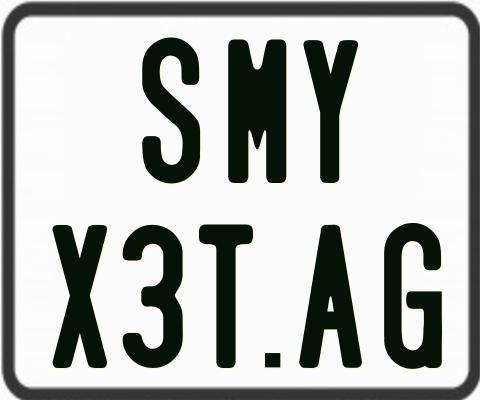3: (120, 223, 184, 366)
A: (298, 224, 363, 371)
G: (382, 221, 444, 369)
M: (228, 38, 291, 182)
S: (142, 38, 204, 184)
T: (197, 222, 257, 370)
X: (51, 223, 110, 369)
Y: (303, 38, 358, 182)
